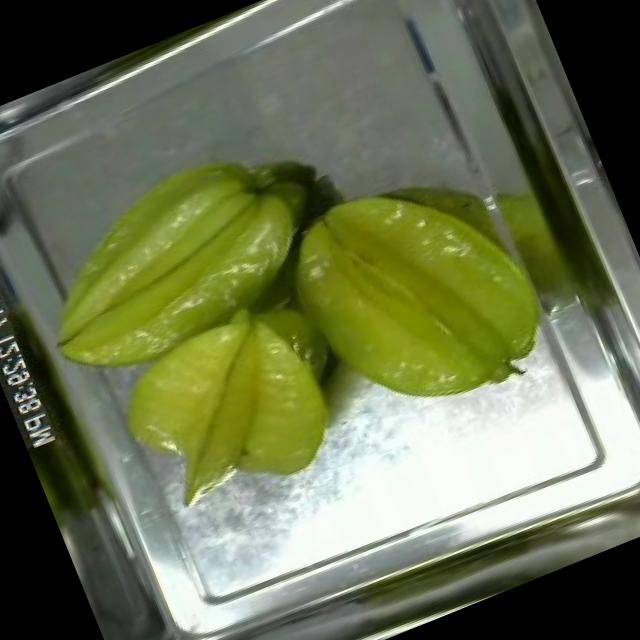fruit: (0, 114, 381, 506), (249, 127, 572, 451)
